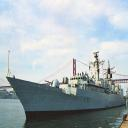Fragata: (7, 51, 128, 125)
